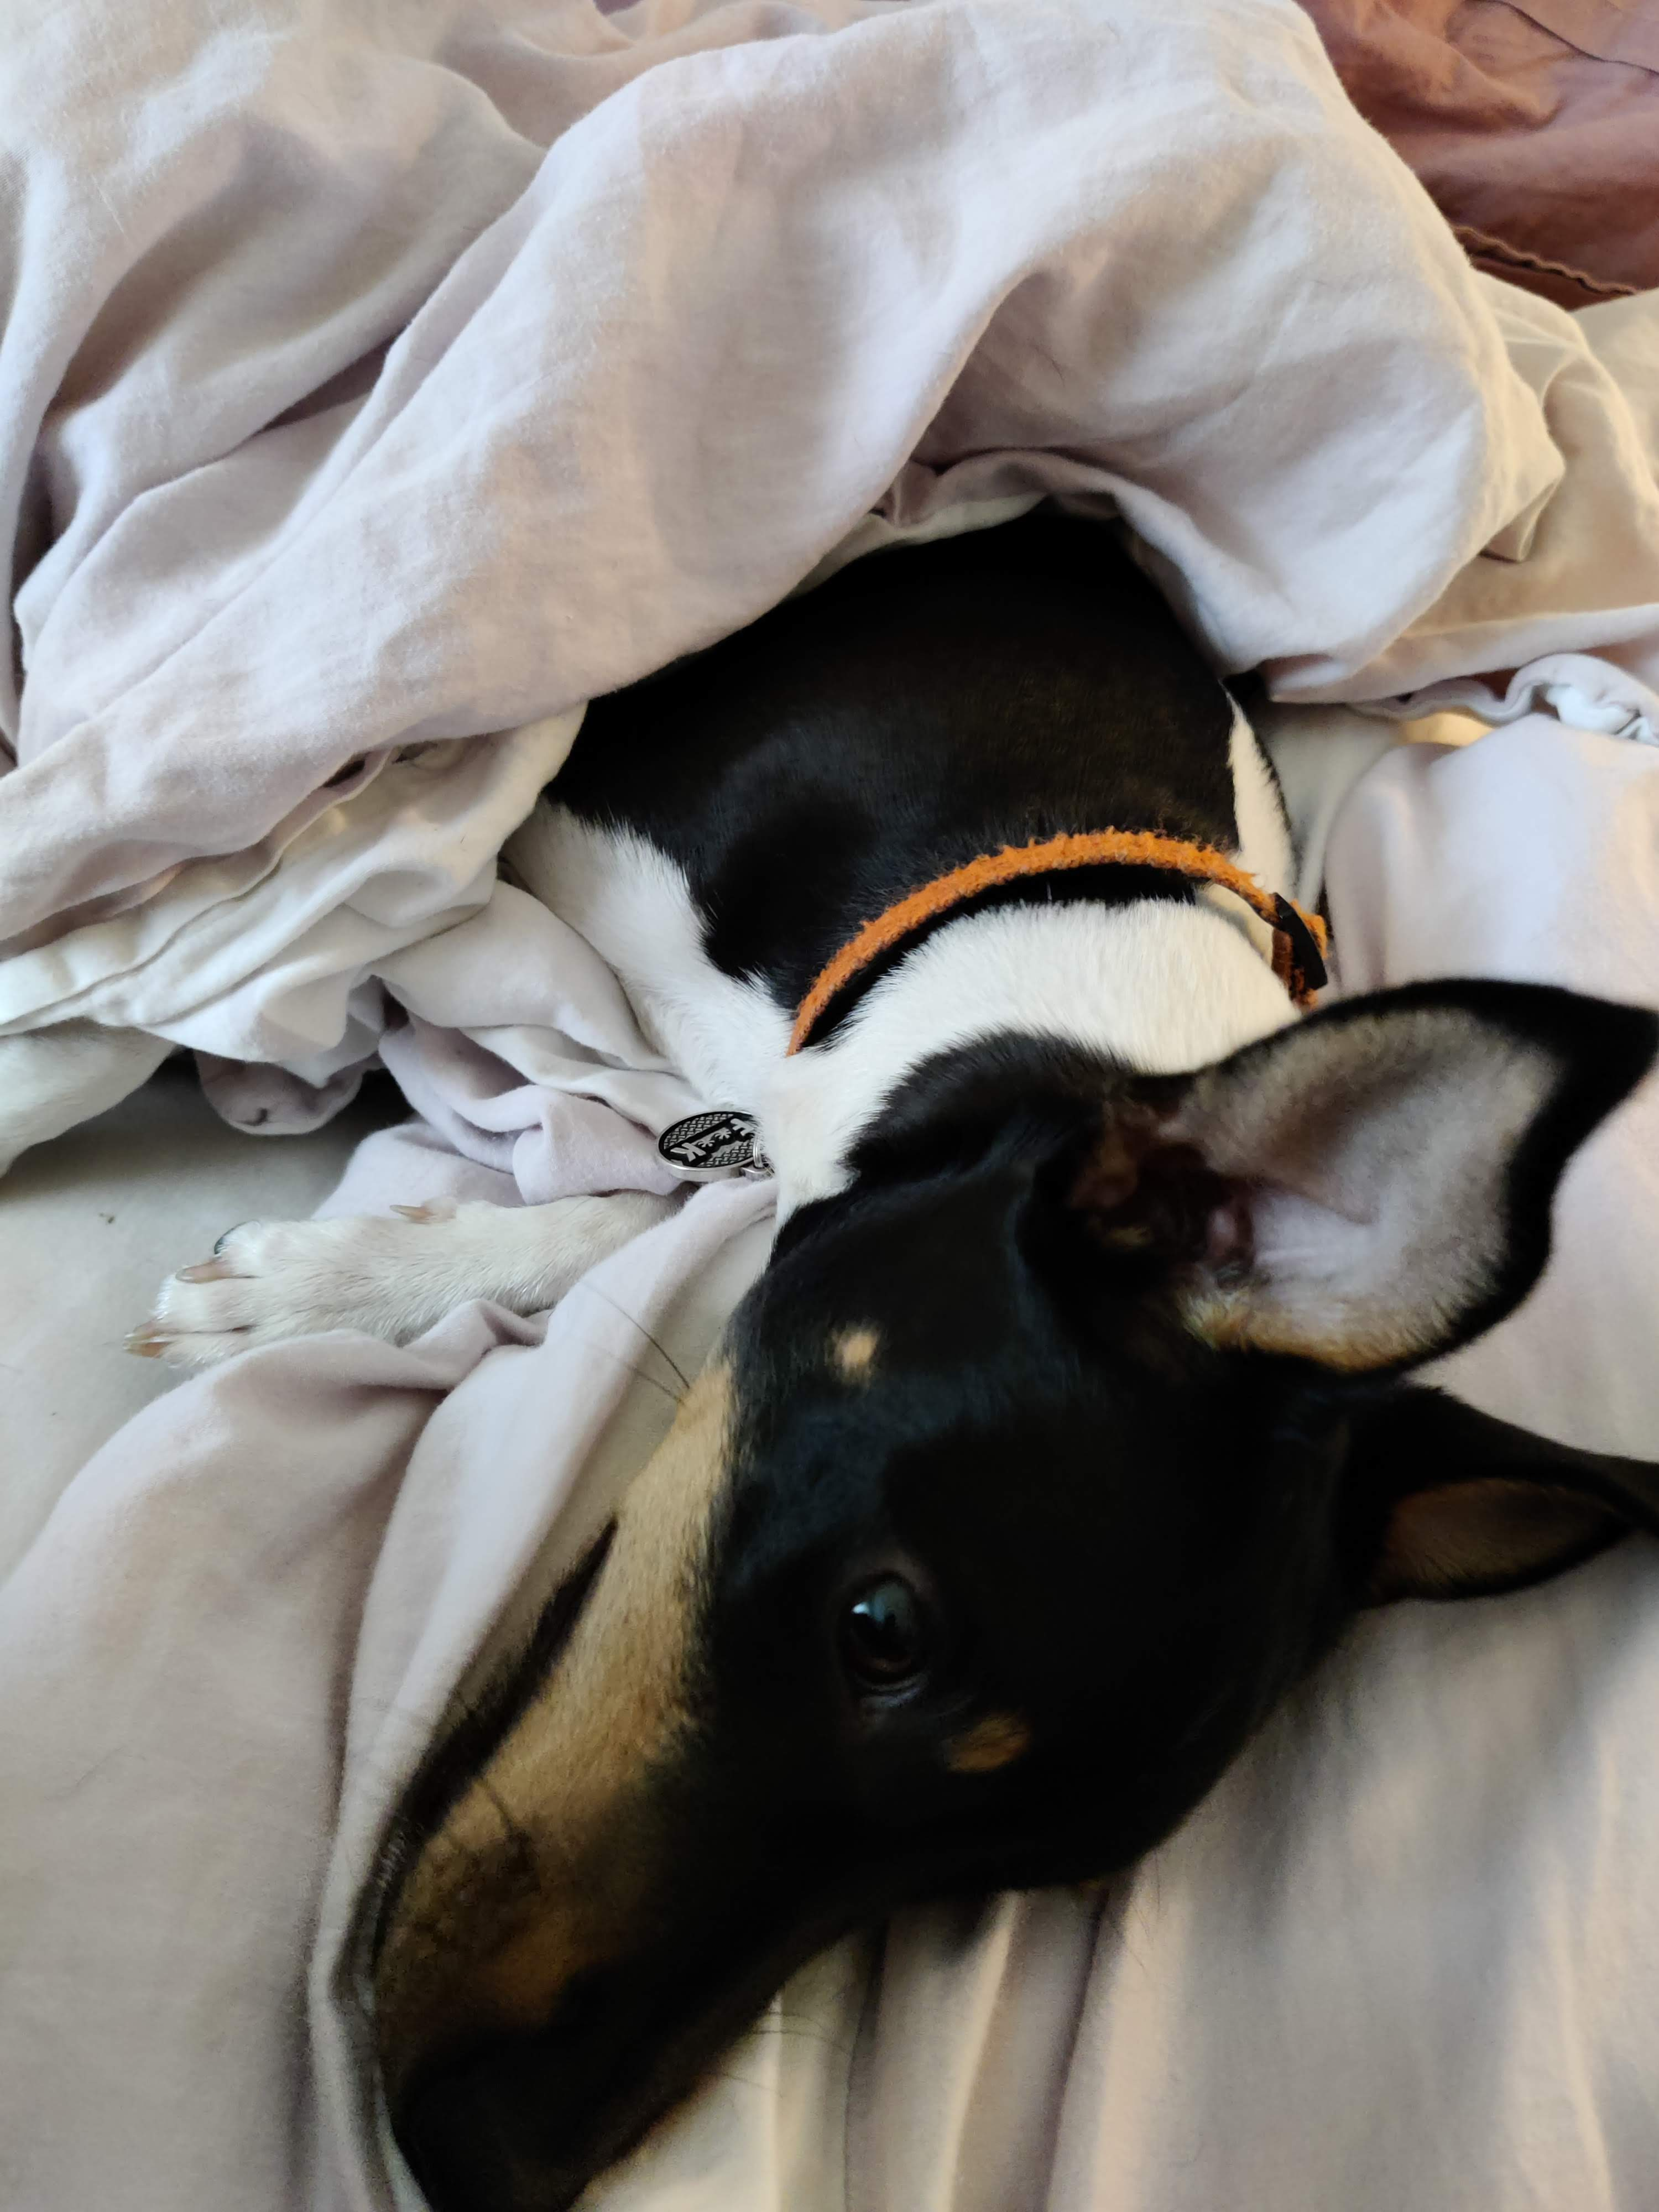Dog: (108, 475, 1659, 2212)
